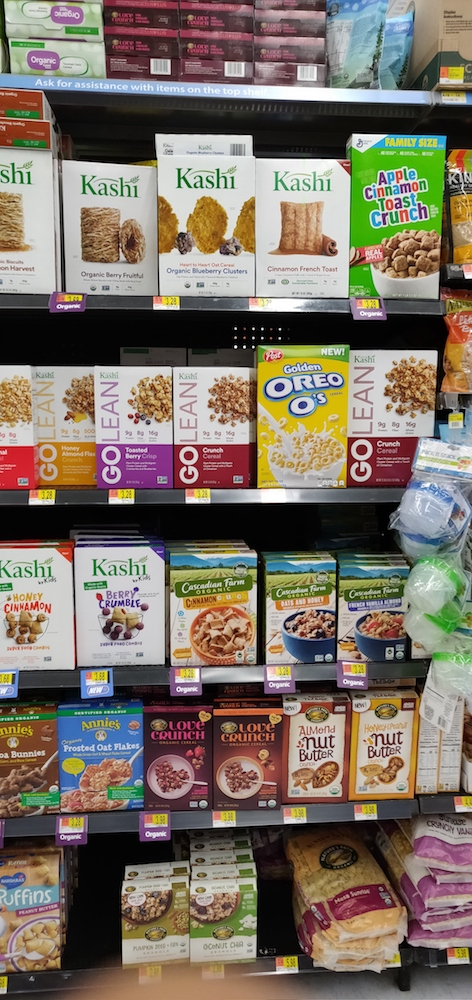Oreo Golden-568301011: (253, 331, 355, 490)
